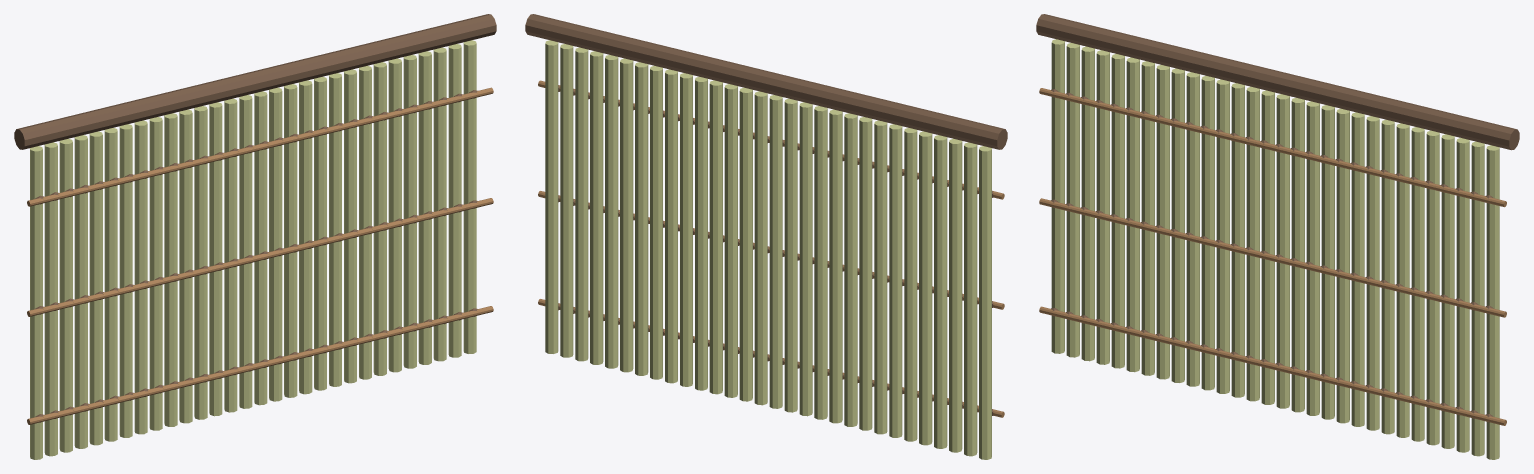
The model's file is bamboo_sudare.glb.
The picture shows the model from 3 angles, left to right: view 1: azimuth 30°, elevation 25°; view 2: azimuth 150°, elevation 25°; view 3: azimuth 330°, elevation 25°; orthographic projection.
Visible parts, largest first — view 1: Upper rail, Split sudare reed.007, Split sudare reed.009, Split sudare reed.025, Split sudare reed.003, Split sudare reed.024, Split sudare reed.013, Split sudare reed.018, Split sudare reed.027, Split sudare reed.006, Split sudare reed.010, Split sudare reed.011 (+22 smaller); view 2: Upper rail, Split sudare reed.007, Split sudare reed.013, Split sudare reed.027, Split sudare reed.010, Split sudare reed.016, Split sudare reed.017, Split sudare reed.028, Split sudare reed.002, Split sudare reed.003, Split sudare reed.005, Split sudare reed.008 (+19 smaller); view 3: Upper rail, Split sudare reed.013, Split sudare reed.010, Split sudare reed.019, Split sudare reed.001, Split sudare reed.004, Split sudare reed.007, Split sudare reed.016, Split sudare reed.022, Split sudare reed.025, Split sudare reed.018, Split sudare reed.021 (+22 smaller).
Part boxes in pixels (x1=…): Upper rail: x1=14, y1=14, x2=496, y2=149; Split sudare reed.007: x1=134, y1=120, x2=147, y2=434; Split sudare reed.009: x1=164, y1=113, x2=177, y2=426; Split sudare reed.025: x1=403, y1=55, x2=416, y2=368; Split sudare reed.003: x1=74, y1=135, x2=87, y2=448; Split sudare reed.024: x1=388, y1=58, x2=401, y2=372; Split sudare reed.013: x1=224, y1=98, x2=237, y2=412; Split sudare reed.018: x1=299, y1=80, x2=312, y2=394; Split sudare reed.027: x1=433, y1=47, x2=446, y2=361; Split sudare reed.006: x1=119, y1=124, x2=132, y2=437; Split sudare reed.010: x1=179, y1=109, x2=192, y2=423; Split sudare reed.011: x1=194, y1=106, x2=207, y2=419; Upper rail: x1=525, y1=14, x2=1007, y2=149; Split sudare reed.007: x1=874, y1=120, x2=887, y2=434; Split sudare reed.013: x1=784, y1=98, x2=797, y2=412; Split sudare reed.027: x1=575, y1=47, x2=588, y2=361; Split sudare reed.010: x1=829, y1=109, x2=842, y2=423; Split sudare reed.016: x1=739, y1=87, x2=752, y2=401; Split sudare reed.017: x1=724, y1=84, x2=737, y2=397; Split sudare reed.028: x1=560, y1=44, x2=573, y2=357; Split sudare reed.002: x1=949, y1=138, x2=962, y2=452; Split sudare reed.003: x1=934, y1=135, x2=947, y2=448; Split sudare reed.005: x1=904, y1=128, x2=917, y2=441; Split sudare reed.008: x1=859, y1=117, x2=872, y2=430; Upper rail: x1=1036, y1=14, x2=1519, y2=150; Split sudare reed.013: x1=1246, y1=86, x2=1259, y2=401; Split sudare reed.010: x1=1201, y1=76, x2=1214, y2=390; Split sudare reed.019: x1=1336, y1=108, x2=1349, y2=423; Split sudare reed.001: x1=1066, y1=43, x2=1079, y2=357; Split sudare reed.004: x1=1111, y1=54, x2=1124, y2=368; Split sudare reed.007: x1=1156, y1=65, x2=1169, y2=379; Split sudare reed.016: x1=1291, y1=97, x2=1304, y2=412; Split sudare reed.022: x1=1381, y1=119, x2=1394, y2=434; Split sudare reed.025: x1=1426, y1=130, x2=1439, y2=445; Split sudare reed.018: x1=1321, y1=105, x2=1334, y2=419; Split sudare reed.021: x1=1366, y1=116, x2=1379, y2=430.
Bounding box in the file's own units: 1.95 × 1.31 × 0.0828.
